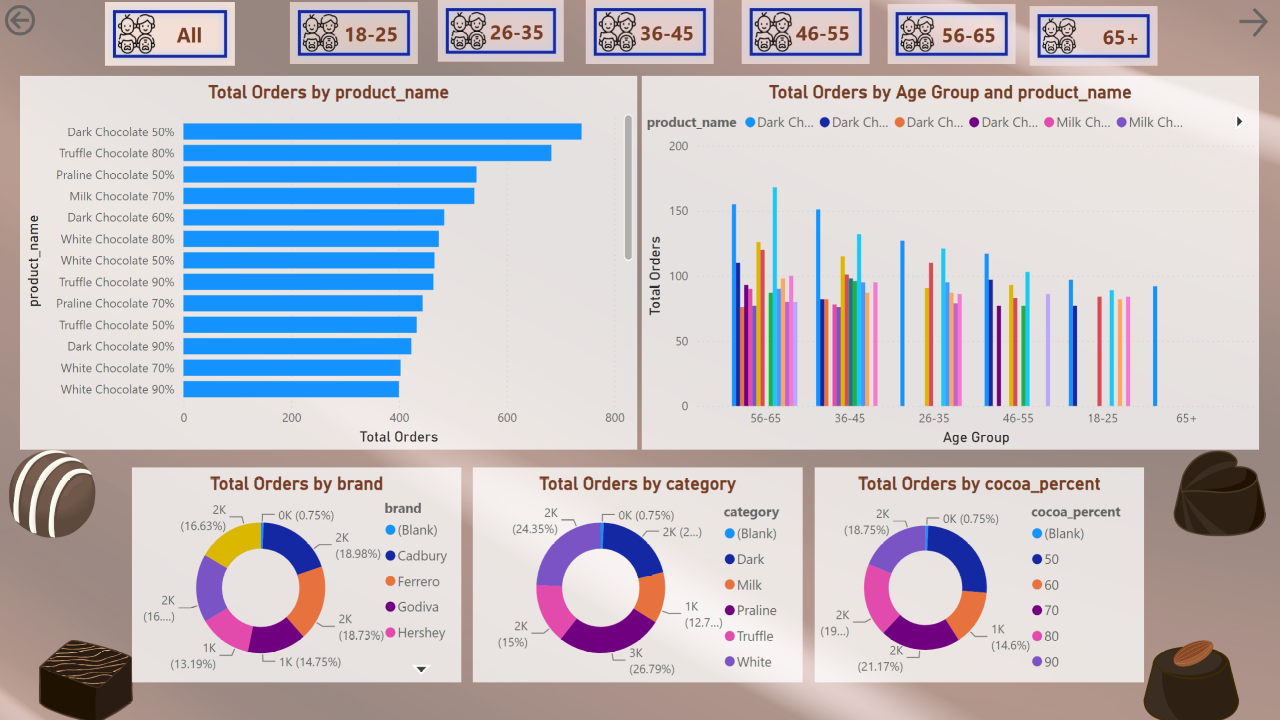

What the dashboard file says about the page in this screenshot:
{"tool":"powerbi","page":{"name":"Products By Age Groups","canvas":[1280,720],"ordinal":1},"visuals":[{"type":"clusteredBarChart","fields":{"Category":["Products.product_name"],"Y":["Sales.Total Orders"]},"box":[20,75.5,617.7,369.7],"z":0},{"type":"clusteredColumnChart","fields":{"Category":["Customers.Age Group"],"Series":["Products.product_name"],"Y":["Sales.Total Orders"]},"box":[642.3,75.5,617.7,369.7],"z":1000},{"type":"actionButton","box":[104.5,2,130.2,63.1],"z":2000},{"type":"actionButton","box":[289.9,2,128.2,61.1],"z":3000},{"type":"actionButton","box":[437.8,0,126.2,61.1],"z":4000},{"type":"actionButton","box":[585.8,0,128.2,63.1],"z":5000},{"type":"actionButton","box":[741.6,0,128.2,63.1],"z":6000},{"type":"actionButton","box":[887.5,3.9,128.2,59.2],"z":7000},{"type":"actionButton","box":[1029.5,5.9,128.2,59.2],"z":8000},{"type":"image","box":[0,445,104.9,86.5],"z":9000},{"type":"image","box":[38.6,627.7,94.1,92.5],"z":10000},{"type":"image","box":[1173.6,433.3,92.5,109.5],"z":11000},{"type":"image","box":[1144.3,627.7,95.6,92.5],"z":12000},{"type":"actionButton","box":[0,0,100,40],"z":13000},{"type":"donutChart","fields":{"Category":["Products.brand"],"Y":["Sales.Total Orders"]},"box":[132.5,462.1,329.6,212.6],"z":14000},{"type":"donutChart","fields":{"Category":["Products.category"],"Y":["Sales.Total Orders"]},"box":[472.9,462.1,330,212.6],"z":15000},{"type":"donutChart","fields":{"Category":["Products.cocoa_percent"],"Y":["Sales.Total Orders"]},"box":[814.8,462.1,329.6,212.6],"z":16000},{"type":"actionButton","box":[1233.8,1.5,38.5,40],"z":16001}]}

Visuals, with their boxes in screenshot pixels (x1, y1, x2, y2), scaled from the page's 1280x720 canvas onto the 1280x720 screenshot:
clusteredBarChart - Products.product_name x Sales.Total Orders: 20,76,638,445
clusteredColumnChart - Customers.Age Group x Products.product_name: 642,76,1260,445
actionButton: 104,2,235,65
actionButton: 290,2,418,63
actionButton: 438,0,564,61
actionButton: 586,0,714,63
actionButton: 742,0,870,63
actionButton: 888,4,1016,63
actionButton: 1030,6,1158,65
image: 0,445,105,532
image: 39,628,133,719
image: 1174,433,1266,543
image: 1144,628,1240,719
actionButton: 0,0,100,40
donutChart - Products.brand x Sales.Total Orders: 132,462,462,675
donutChart - Products.category x Sales.Total Orders: 473,462,803,675
donutChart - Products.cocoa_percent x Sales.Total Orders: 815,462,1144,675
actionButton: 1234,2,1272,42
